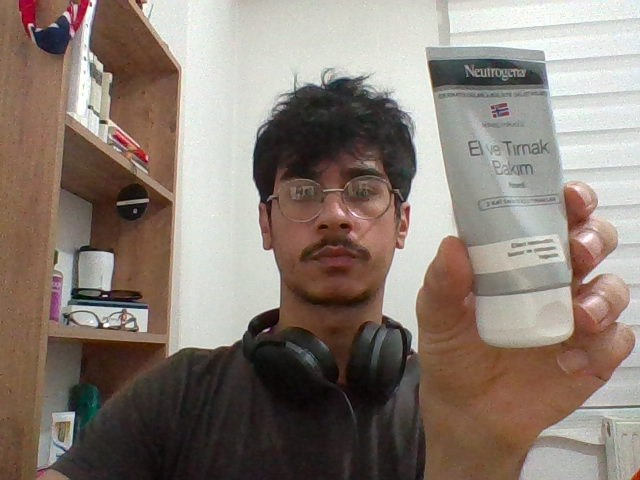Neutrogena: (425, 45, 571, 349)
